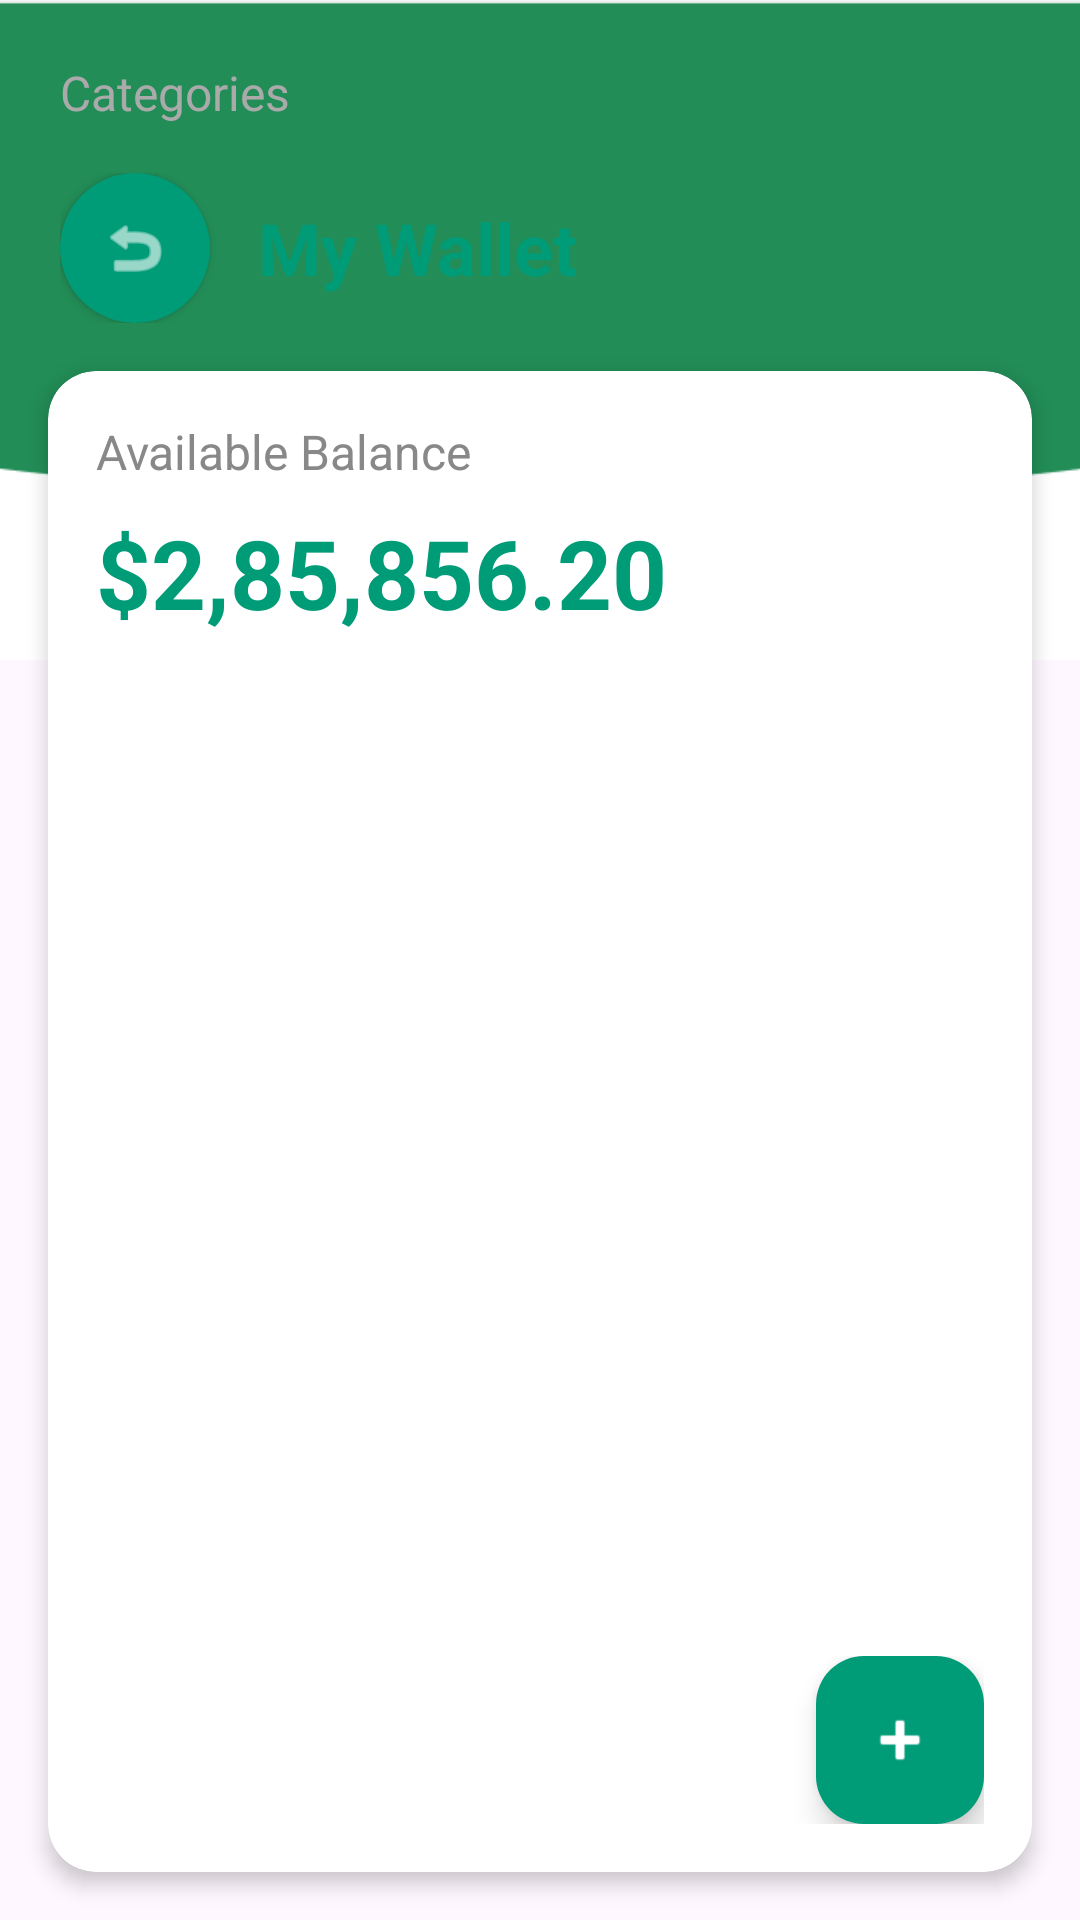

Point at icon controls on the screen. Image size 1080px x 1920px, points as (x,y).
add: (900,1740)
revert: (136,248)
